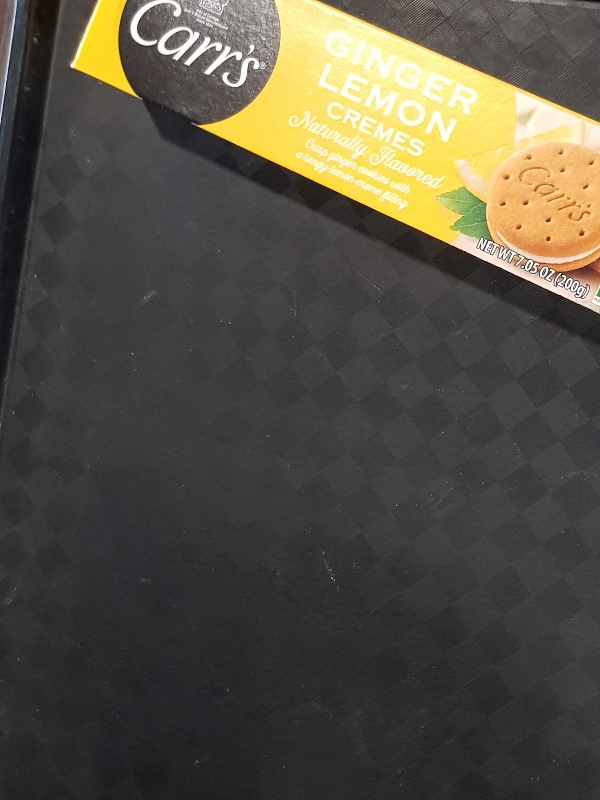Carr's Ginger Lemon Cremes: (68, 1, 600, 317)
